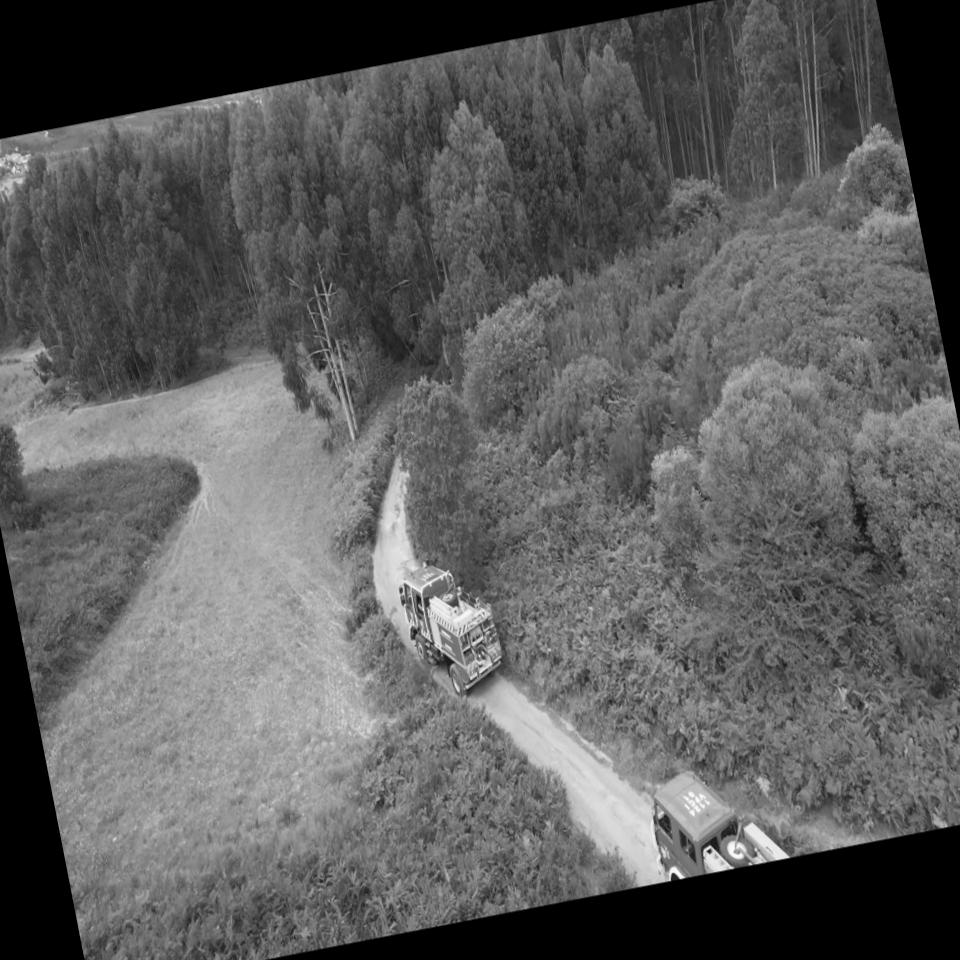viatura: (638, 752, 790, 883), (393, 546, 511, 706)
